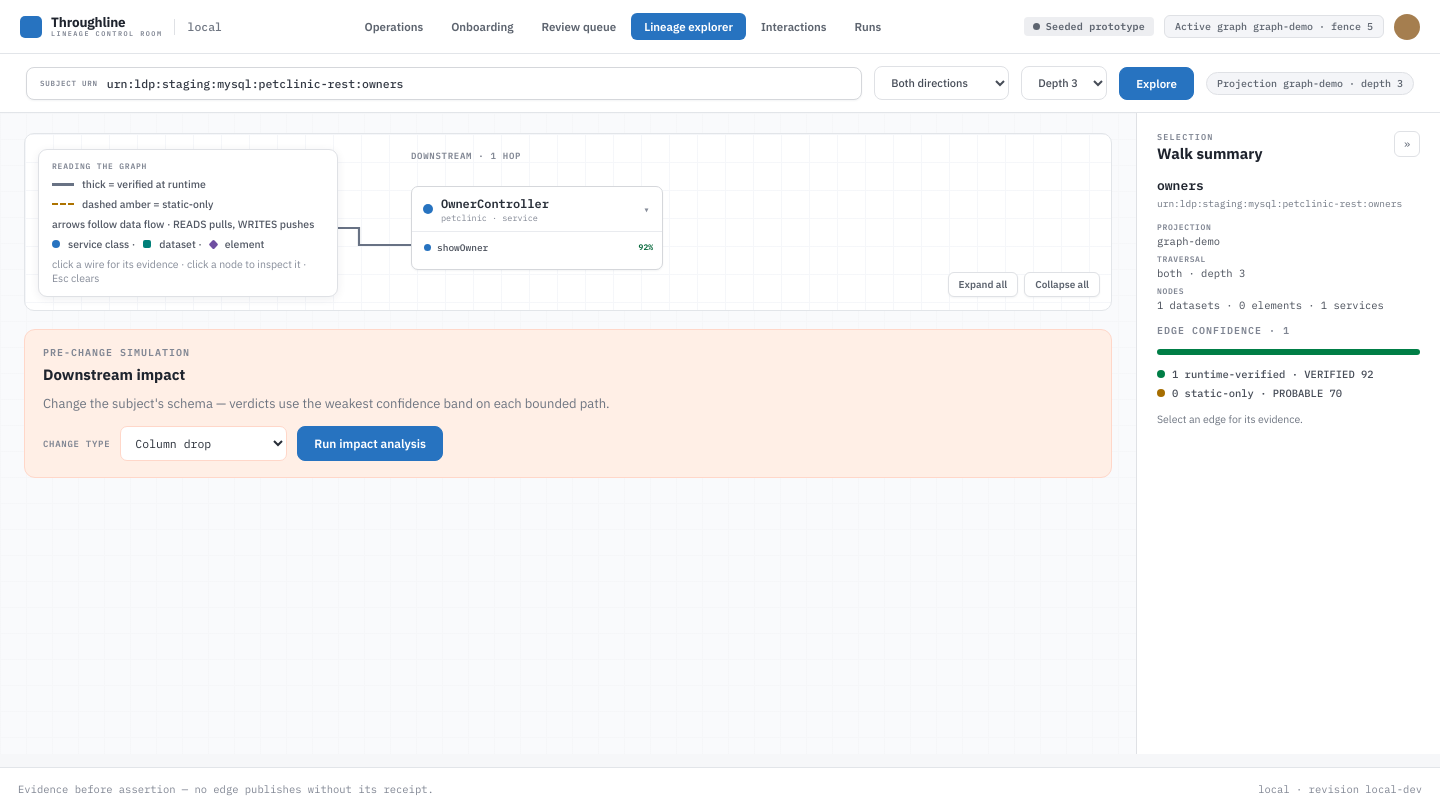
Test: impact analysis runs against the committed subject
The width and height of the screenshot is (1440, 810).
Step 1. Select "Column drop" in the dropdown labelled "Change type" → (204, 444), box [120,426,287,461]
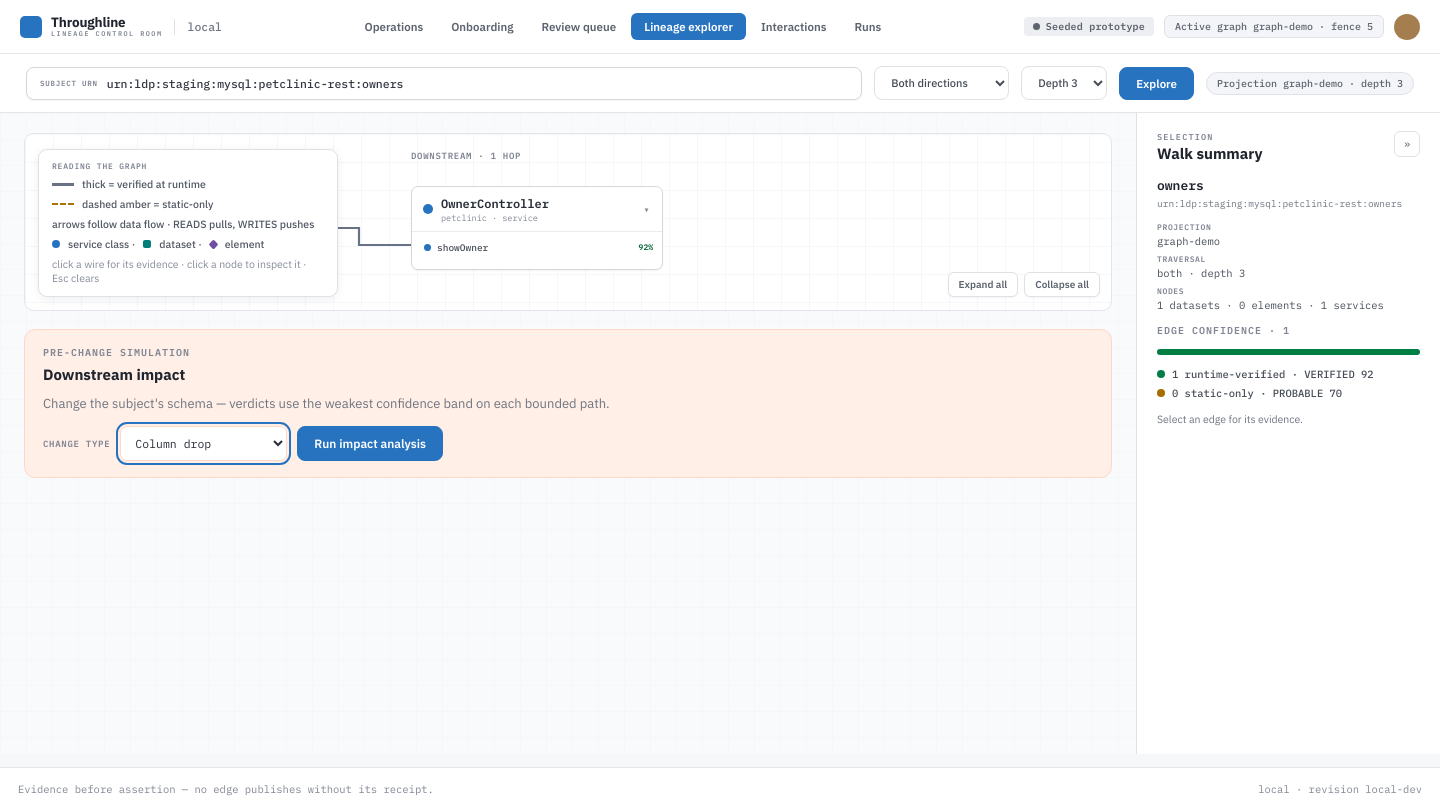
Step 2. Click the button "Run impact analysis" → (370, 444), box [297,426,443,461]
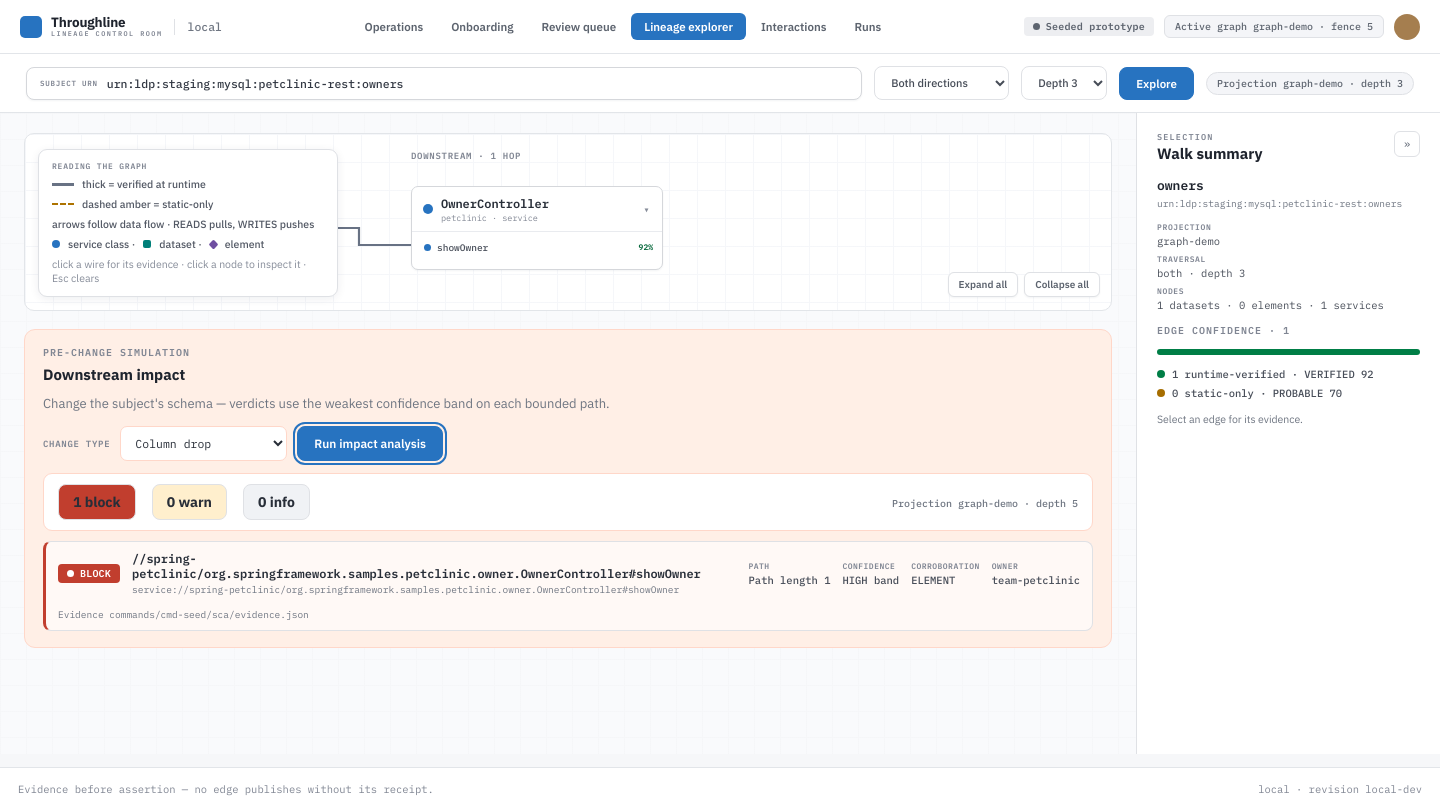
Now the text "1 block" is shown, box [58,484,136,520]
Now the text "BLOCK" is shown, box [58,564,120,583]
Now the text "Path length 1" is shown, box [748,573,830,587]
